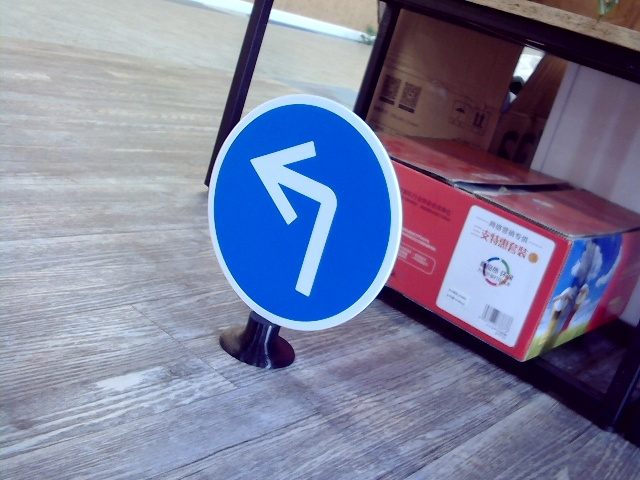turn_left: (249, 130, 338, 292)
